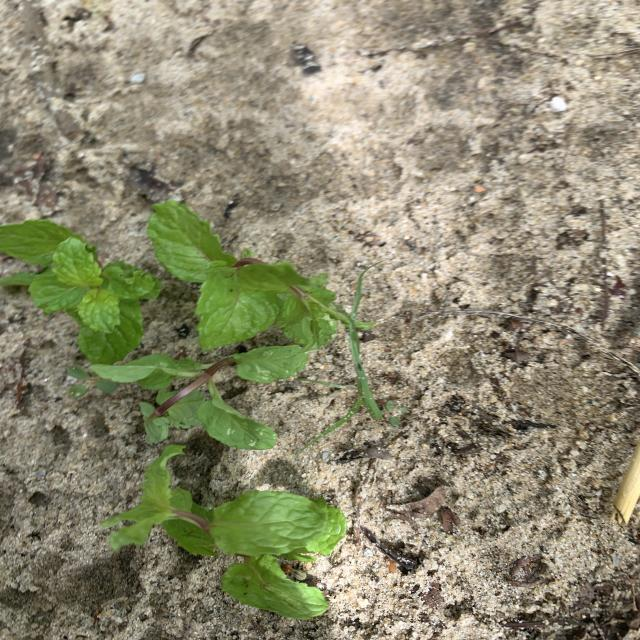crop: (103, 446, 344, 619), (147, 200, 341, 350), (0, 220, 161, 363), (92, 346, 302, 449)
weed: (296, 262, 384, 454), (68, 366, 116, 398), (386, 401, 407, 426)
